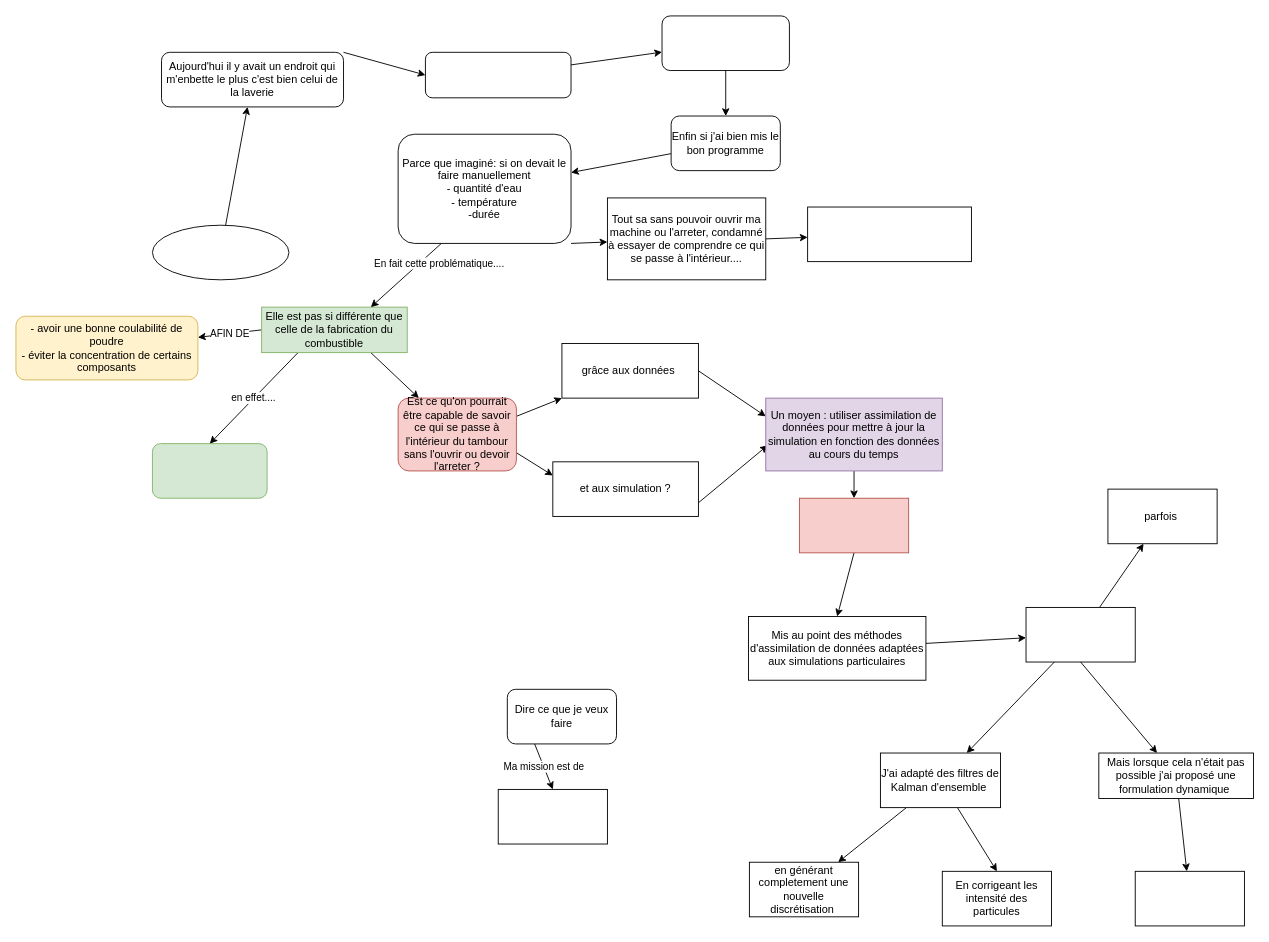
This 1269x942 diagram has some shape labels left out. The shapes that lost their labels are listed below. From the top down, each one's centre as x and y in pixels, then its label:
At (725,43): "Mais bon l'avantage c'est qu'à la fin je sais que mon linge est propre".
At (498,74): "On reste durant des heures entières sans pouvoir rien faire".
At (220,252): "Introduction".
At (889,234): "Alors là je pense que je suis assuréesur que je finis avec des habits de 4 ans".
At (209,470): "On doit vérifier que le mélange soit : homogène, et à une taille de grain précis".
At (854,525): "Comment j'ai fait ?".
At (1080,634): "en effet, la simulation est caractérisé une intensité et position".
At (552,816): "Jumeau numérique pour le broyeur".
At (1189,898): "Afin d'aligner les particules".
